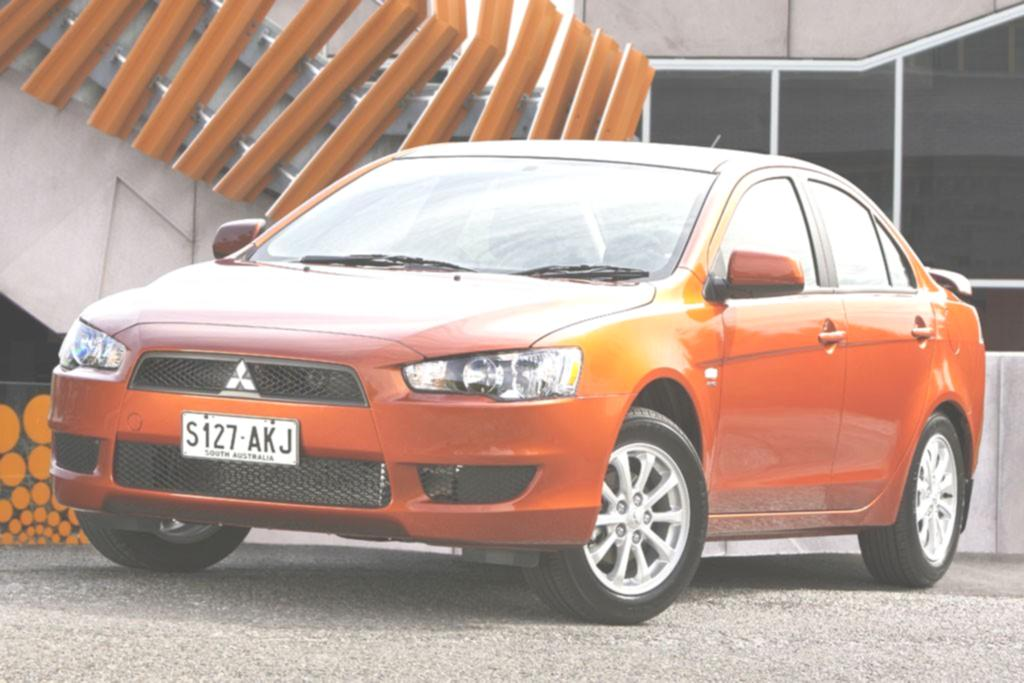Mitsubishi: (209, 352, 275, 398)
